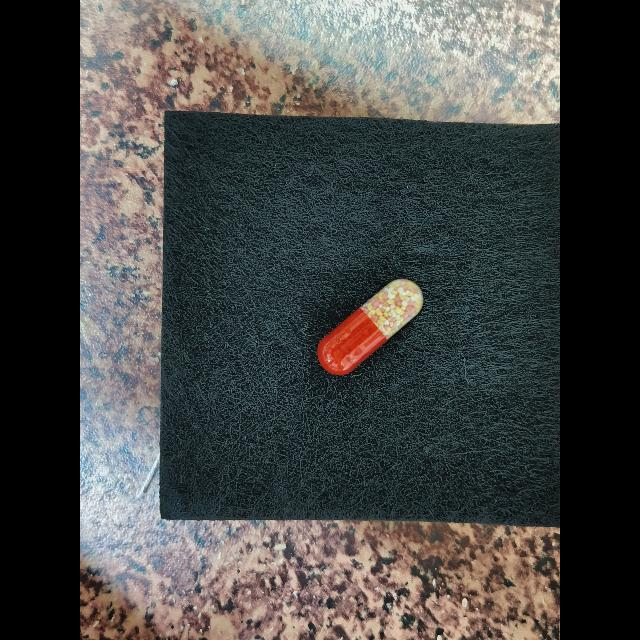Intact Capsule: (317, 279, 423, 375)
